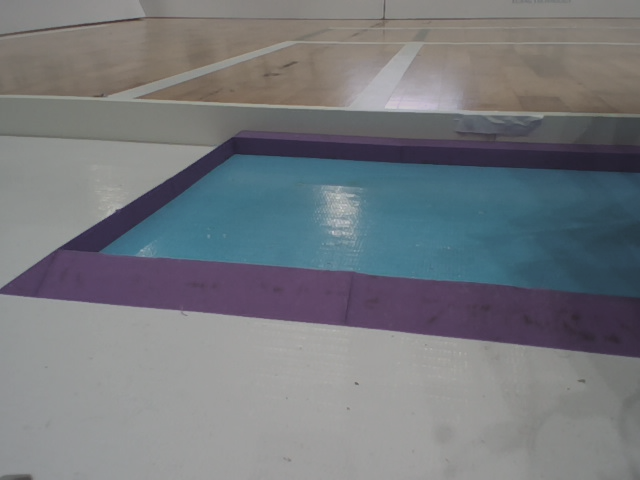kuang: (1, 109, 640, 369)
